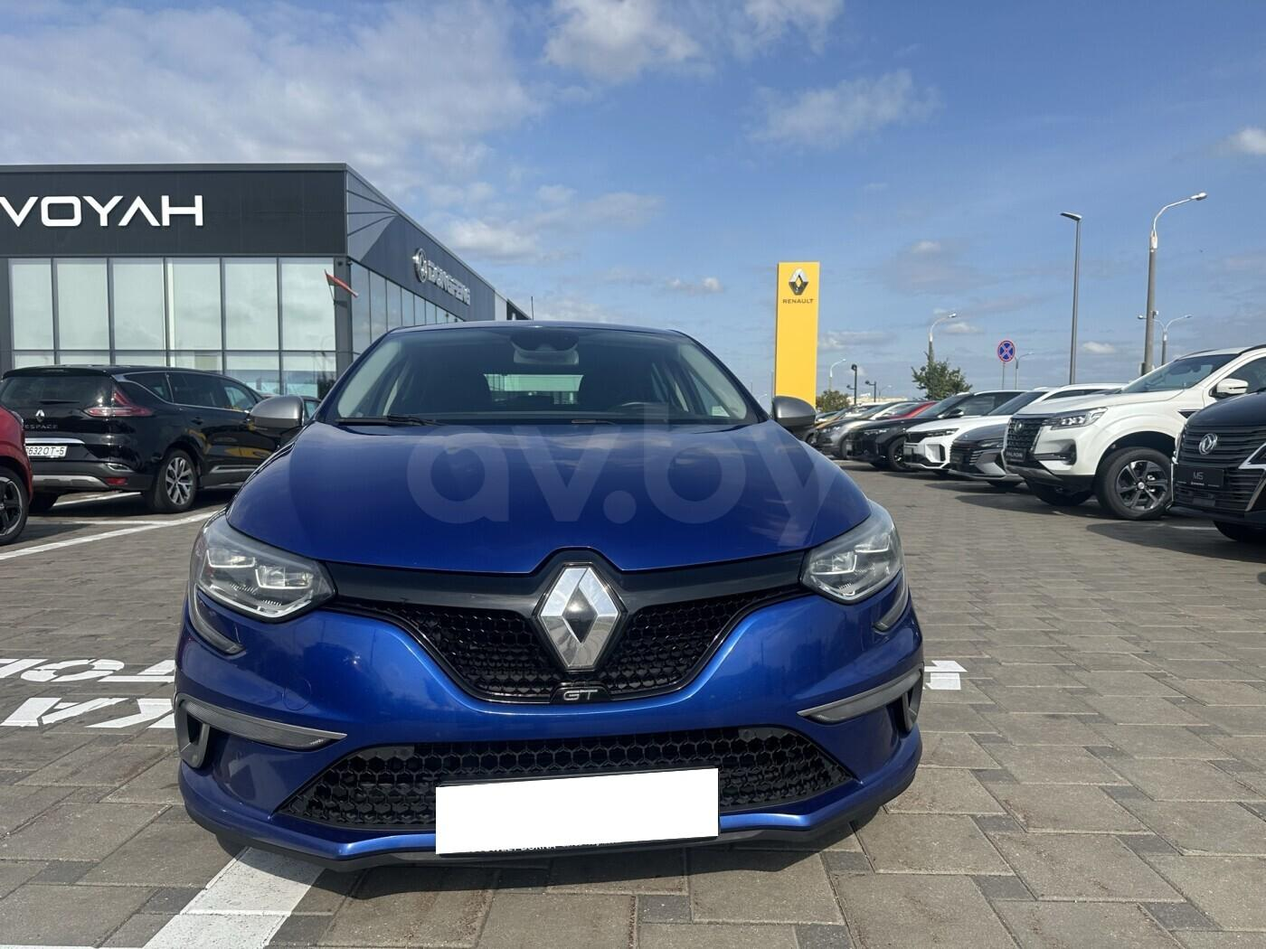Megane_2016-2020: (169, 309, 922, 870)
